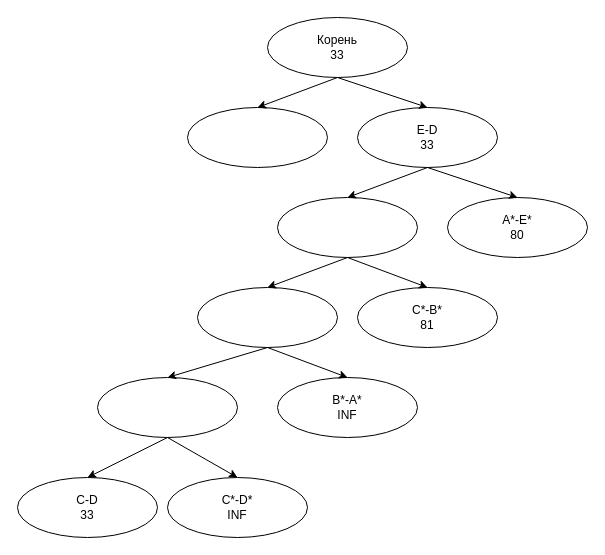
Image size: 605x555. Some labels were removed from this diagram. The shapes that lost their labels are listed below. From the top down, each one's centre as x and y in pixels, then its label:
At point (257, 137): "E*-D* 132".
At point (347, 227): "A-E 33".
At point (267, 317): "C-B 33".
At point (167, 407): "B-A 33".
